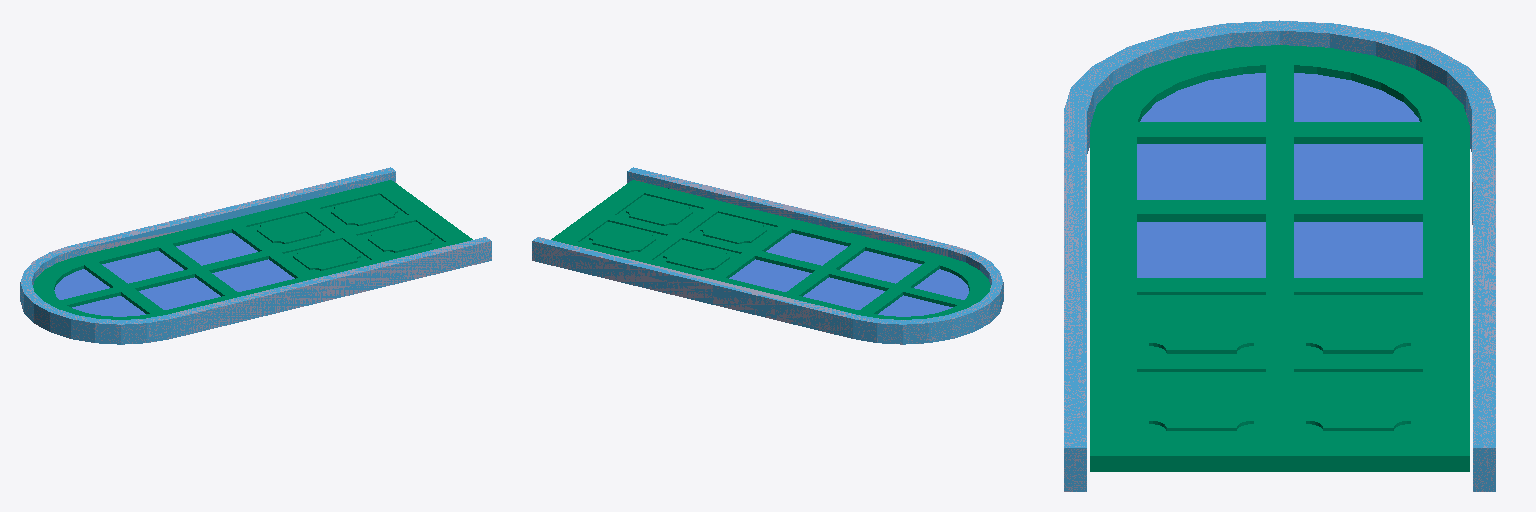
robot.urdf — right-pull-door:
<?xml version="1.0" ?>
<robot name="right-pull-door">
	<link name="base"/>
	<link name="link_0">
		<visual name="out-frame">
			<origin xyz="0 0 0"/>
			<geometry>
				<mesh filename="texture_dae/frame.dae" scale="0.8564854502137254 0.8564854502137254 0.8564854502137254"/>
			</geometry>
		</visual>
		<collision>
			<origin xyz="0 0 0"/>
			<geometry>
				<mesh filename="texture_dae/frame.dae" scale="0.8564854502137254 0.8564854502137254 0.8564854502137254"/>
			</geometry>
		</collision>
	</link>
	<joint name="joint_0" type="fixed">
		<origin rpy="1.570796326794897 0 -1.570796326794897" xyz="0 0 0"/>
		<child link="link_0"/>
		<parent link="base"/>
	</joint>
	<link name="link_1">
		<visual name="surf-board">
			<origin xyz="0.3420651232196344 -0.8741909779967006 0"/>
			<geometry>
				<mesh filename="texture_dae/board.dae" scale="0.8564854502137254 0.8564854502137254 0.8564854502137254"/>
			</geometry>
		</visual>
		<collision>
			<origin xyz="0.3420651232196344 -0.8741909779967006 0"/>
			<geometry>
				<mesh filename="texture_dae/board.dae" scale="0.8564854502137254 0.8564854502137254 0.8564854502137254"/>
			</geometry>
		</collision>
	</link>
	<joint name="joint_1" type="revolute">
		<origin xyz="-0.3420651232196344 0.8741909779967006 0"/>
		<axis xyz="0 -1 0"/>
		<child link="link_1"/>
		<parent link="link_0"/>
		<limit lower="0" upper="1.5079644737231006"/>
	</joint>
	<link name="link_2">
		<visual name="handle">
			<origin xyz="0 0 0"/>
			<geometry>
				<mesh filename="texture_dae/9960021.dae" scale="1.3107970994971148 1.3107970994971148 1.3107970994971148"/>
			</geometry>
		</visual>
		<collision>
			<origin xyz="0 0 0"/>
			<geometry>
				<mesh filename="texture_dae/9960021.dae" scale="1.3107970994971148 1.3107970994971148 1.3107970994971148"/>
			</geometry>
		</collision>
	</link>
	<joint name="joint_2" type="revolute">
		<origin xyz="0.604513891019498 -0.955963687486852 0.015106478101231653"/>
		<child link="link_2"/>
		<parent link="link_1"/>
		<axis xyz="0 0 1"/>
		<limit lower="0" upper="1.5079644737231006"/>
	</joint>
</robot>

--- Render facts (derived) ---
Views: 3 orthographic renders of the robot side by side, from view 1: azimuth 30°, elevation 25°; view 2: azimuth 150°, elevation 25°; view 3: azimuth 270°, elevation 25°.
Robot: right-pull-door — 4 links, 3 joints (2 revolute, 1 fixed); root link base; default pose: every joint at zero.
Links seen in each view (by area): view 1: link_1, link_0; view 2: link_1, link_0; view 3: link_1, link_0.
Link boxes in pixels (x1,y1,x2,y2): link_1: (33, 180, 472, 319); link_0: (20, 167, 491, 344); link_1: (551, 180, 990, 319); link_0: (532, 167, 1003, 344); link_1: (1090, 45, 1469, 471); link_0: (1064, 20, 1495, 491).
Bounding box of the posed robot: 1.83 × 0.7811 × 0.0856 m (x, y, z).
2 mesh visuals loaded from 3 distinct referenced files (2 Collada DAE); not drawn: 1 (file found but could not be loaded).
